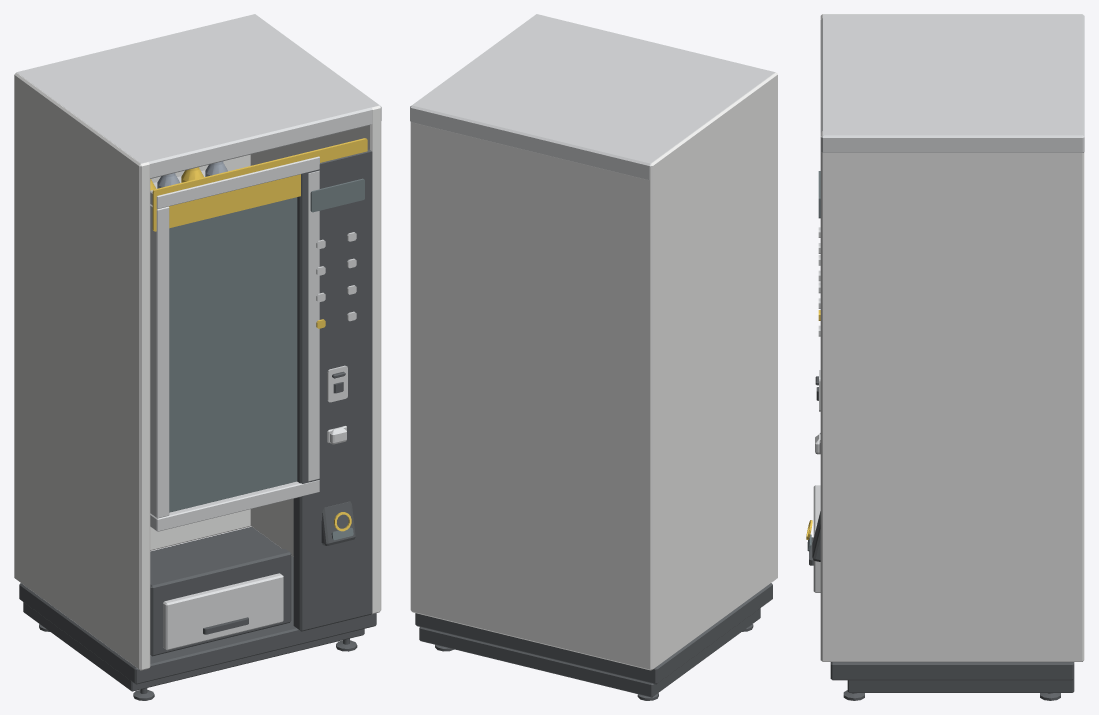
Rendered from laundrette-and-cleaning-vending-machine-drinks-3c8c22ca__25549.glb.
The picture shows the model from 3 angles, left to right: view 1: azimuth 30°, elevation 25°; view 2: azimuth 150°, elevation 25°; view 3: azimuth 270°, elevation 25°; orthographic projection. The views are drawn at different scales.
Parts seen in each view (by area): view 1: vending-machine-drinks, flap-delivery/metal; view 2: vending-machine-drinks; view 3: vending-machine-drinks, flap-delivery/metal.
Part boxes in pixels (x1=…): vending-machine-drinks: x1=14, y1=14, x2=381, y2=700; flap-delivery/metal: x1=163, y1=573, x2=283, y2=650; vending-machine-drinks: x1=410, y1=14, x2=777, y2=700; vending-machine-drinks: x1=806, y1=14, x2=1084, y2=700; flap-delivery/metal: x1=813, y1=485, x2=820, y2=592.
Bounding box in the file's own units: 0.8621 × 1.86 × 0.8237.
